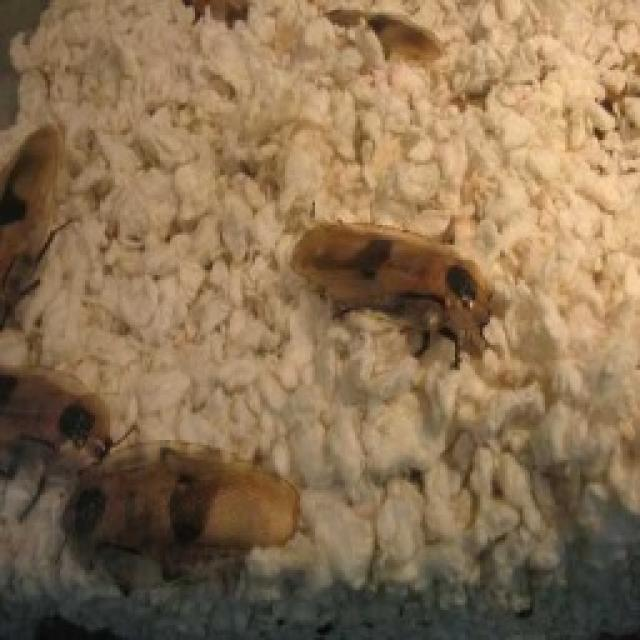cockroach: (286, 201, 506, 373)
